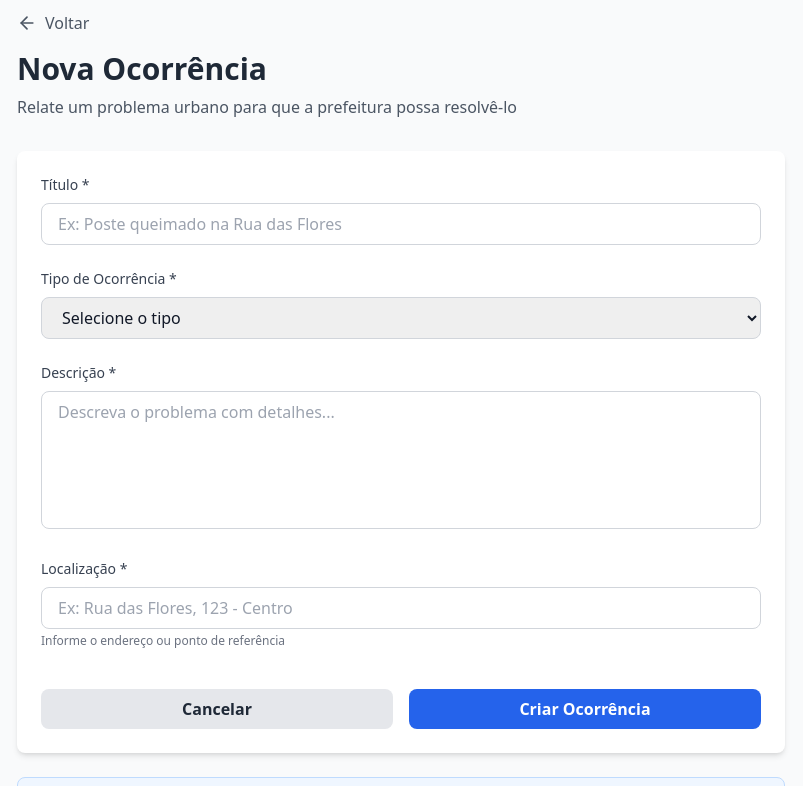
CriarOcorrencia › deve validar campo título obrigatório
This screenshot has width=803, height=786.
Click the button "Criar Ocorrência" at (585,709), box [409, 689, 761, 729]
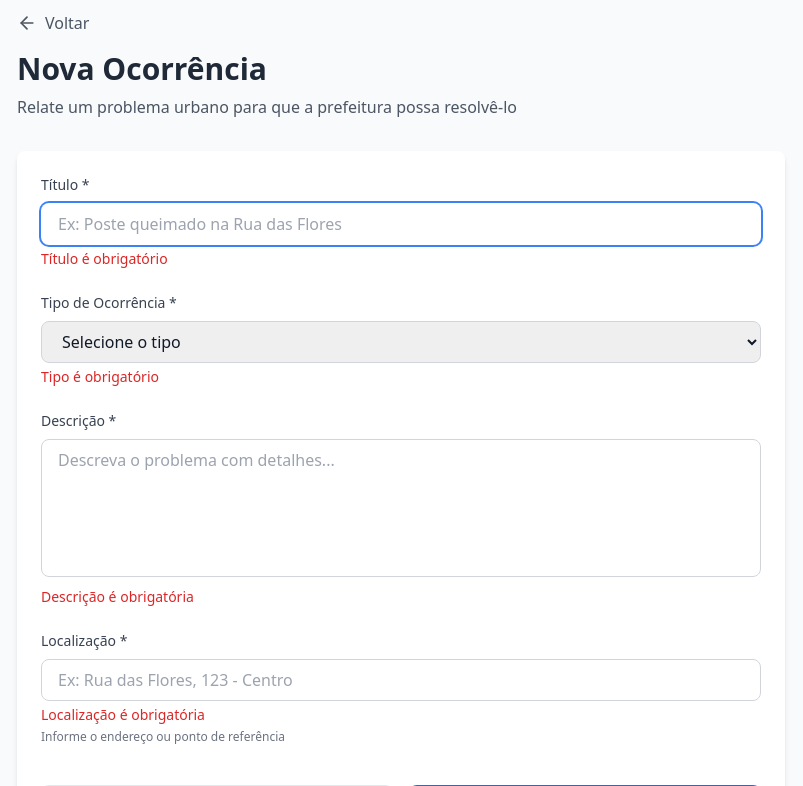
Now the text "Título é obrigatório" is shown, box [41, 249, 168, 268]
